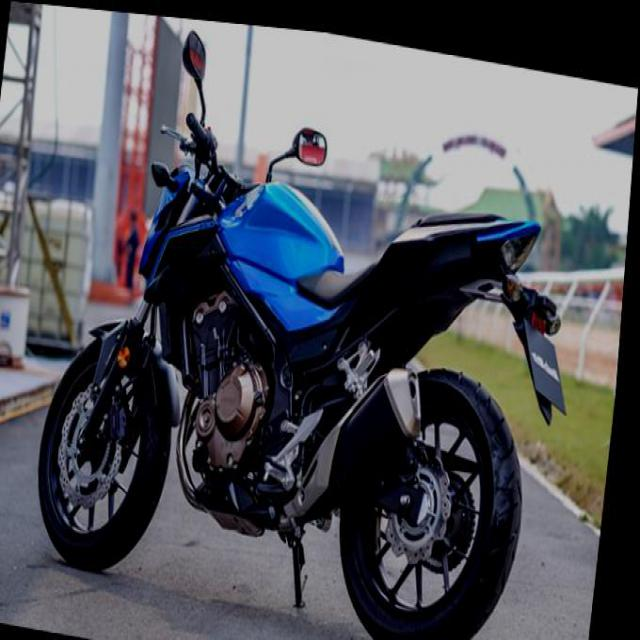CB500F: (33, 129, 569, 636)
